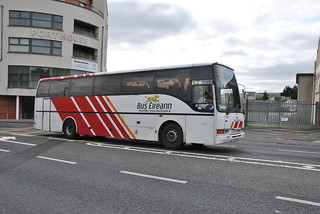bus: (32, 62, 246, 149)
